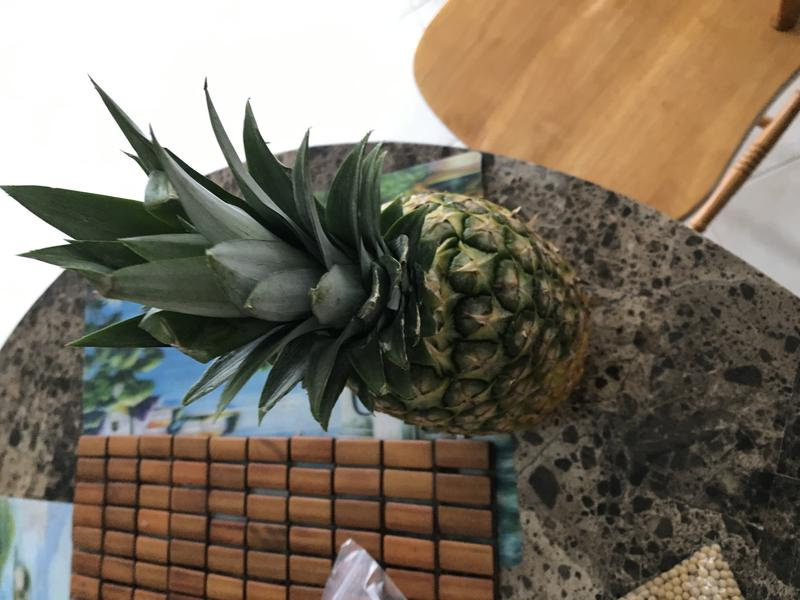pineapple: (7, 61, 601, 450)
